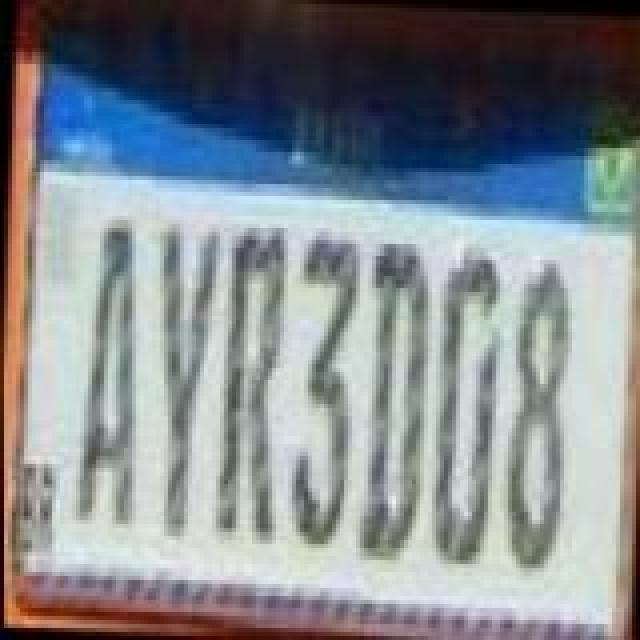3: (276, 220, 364, 548)
8: (494, 252, 574, 572)
A: (62, 206, 146, 538)
D: (350, 236, 434, 568), (424, 226, 504, 566)
R: (206, 214, 290, 550)
Y: (138, 214, 222, 546)
